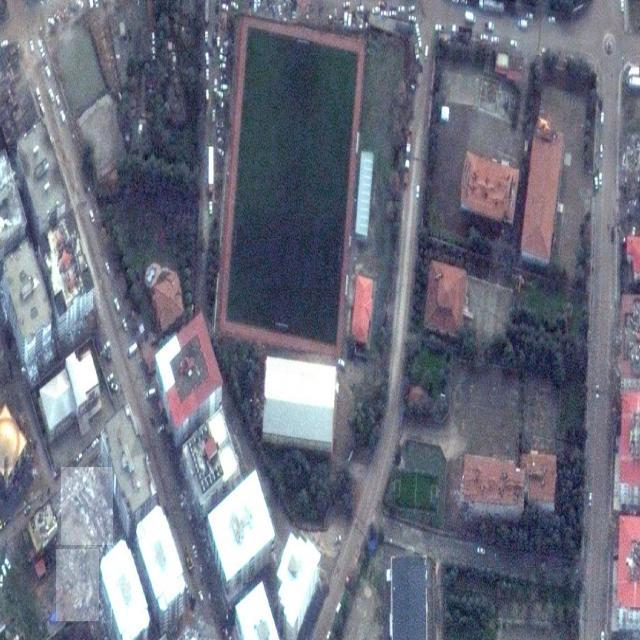Rubble: (61, 468, 113, 546), (56, 549, 99, 621)
